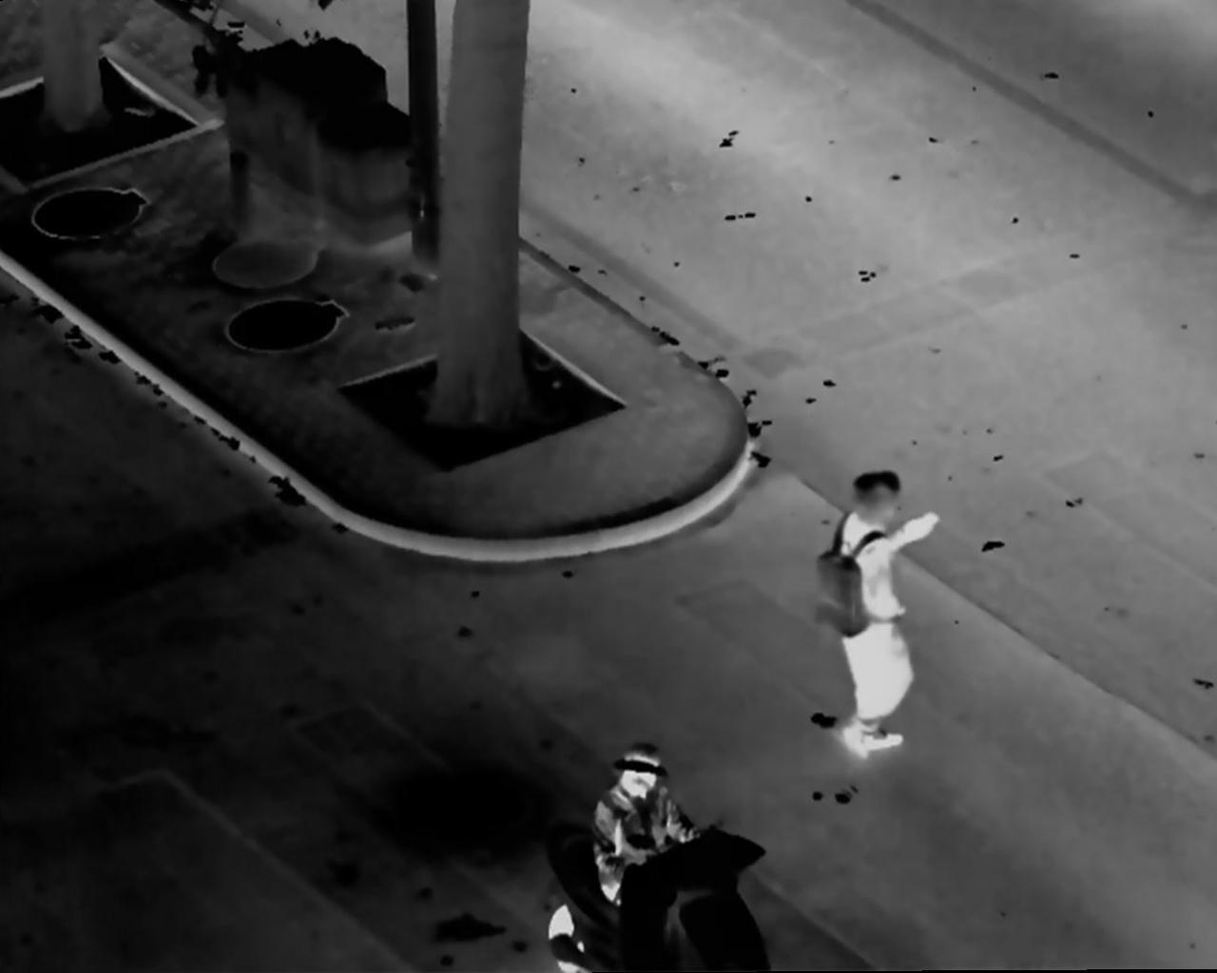person: (826, 465, 940, 770), (593, 735, 706, 962)
